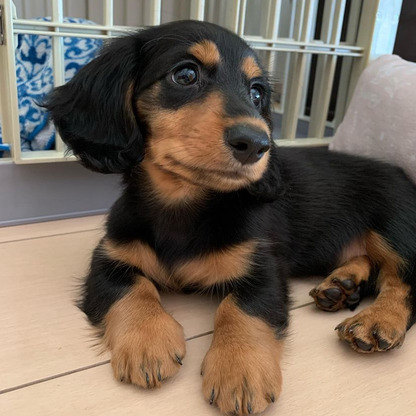dachshund: (57, 24, 399, 388)
